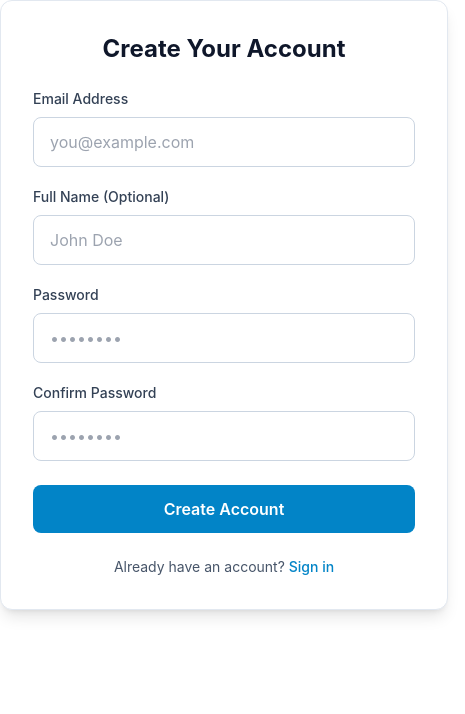
Test: RegisterForm Component › Error Handling › should display error message from AuthContext
The image size is (465, 714).
Type "test@example.com" into the field labelled "Email Address" at [224, 142], box [33,117,415,167]
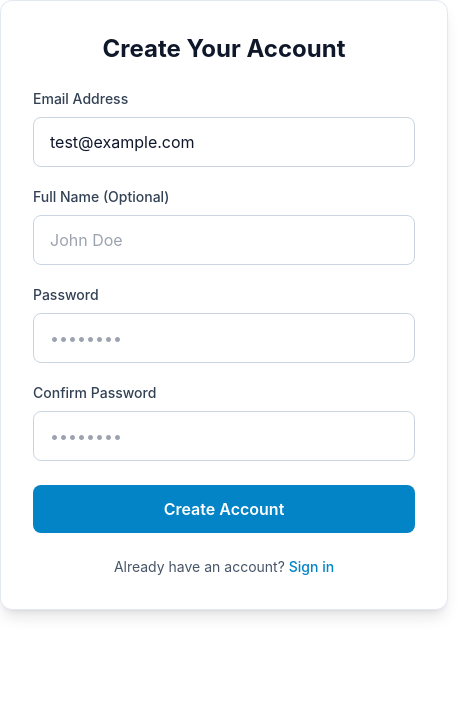
Type "password123" into the password field labelled "Password" at [224, 338], box [33,313,415,363]
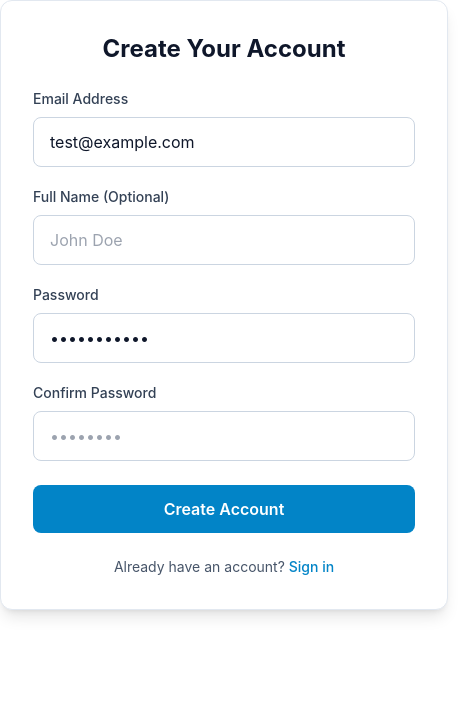
Type "password123" into the password field labelled "Confirm Password" at [224, 436], box [33,411,415,461]
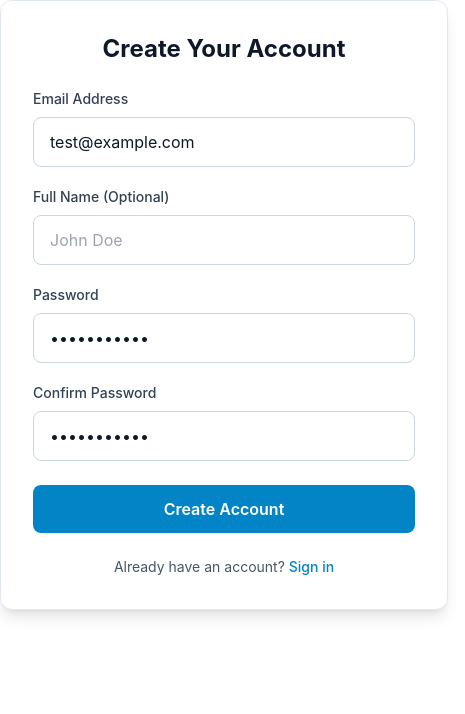
Click the button "Create Account" at [224, 509], box [33,485,415,533]
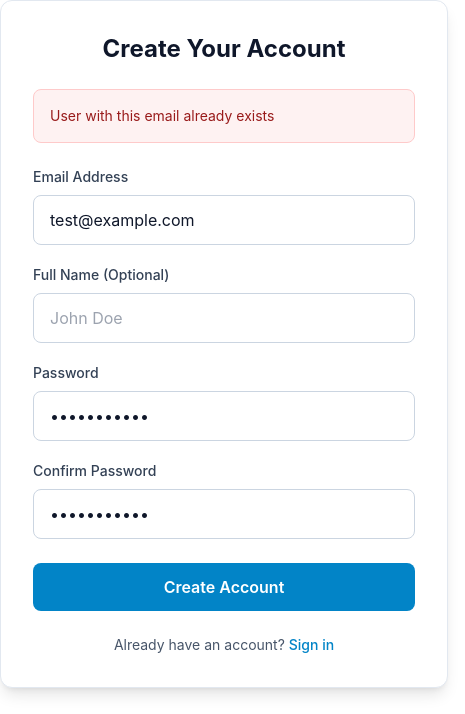
expect the text "User with this email already exists" is shown: met, box [50,107,274,124]
